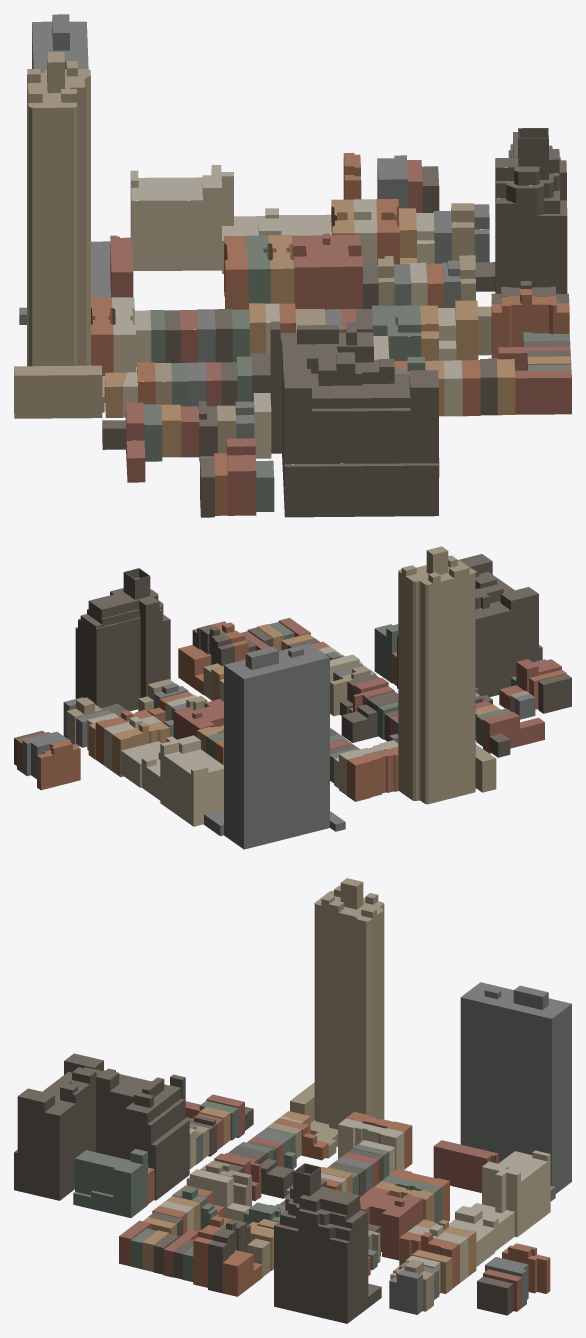
The model's file is tile-8_-8.glb.
3 views of the same model, one above another, from view 1: azimuth 30°, elevation 25°; view 2: azimuth 150°, elevation 25°; view 3: azimuth 270°, elevation 25° (orthographic). The views are drawn at different scales.
Visible parts, largest first — view 1: wall, roof; view 2: wall, roof; view 3: wall, roof.
Boxes of the visible parts, <box> form: wall: <box>14,19,571,517</box>; roof: <box>14,14,571,477</box>; wall: <box>14,551,571,849</box>; roof: <box>14,546,571,825</box>; wall: <box>14,882,571,1323</box>; roof: <box>14,878,571,1296</box>.
Bounding box in the file's own units: 219 × 127 × 248.
